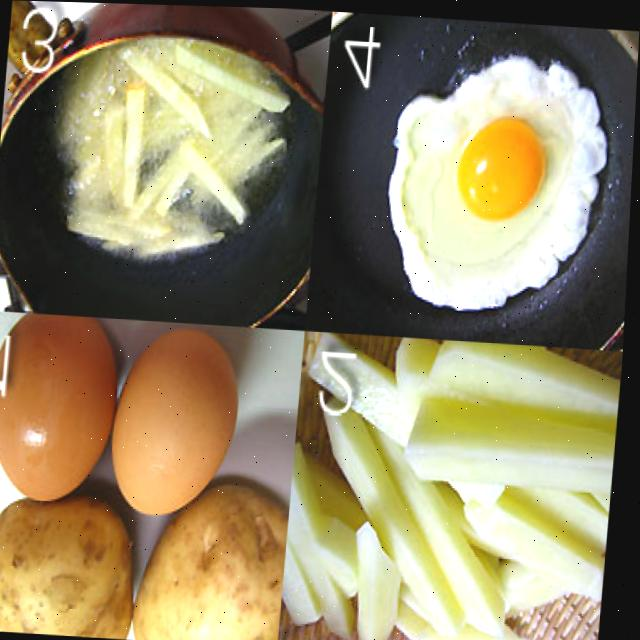鸡蛋料理: (354, 50, 616, 318)
